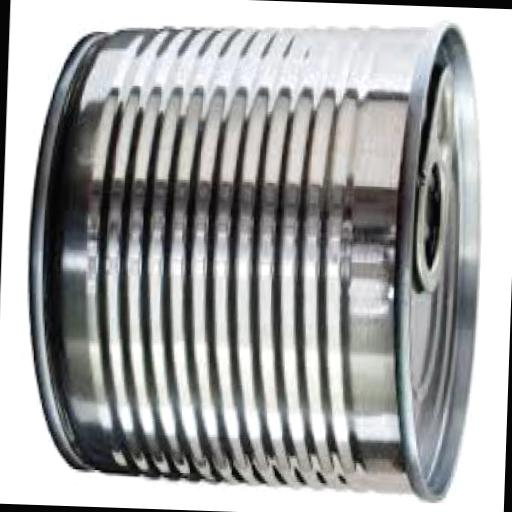metal: (22, 11, 488, 506)
